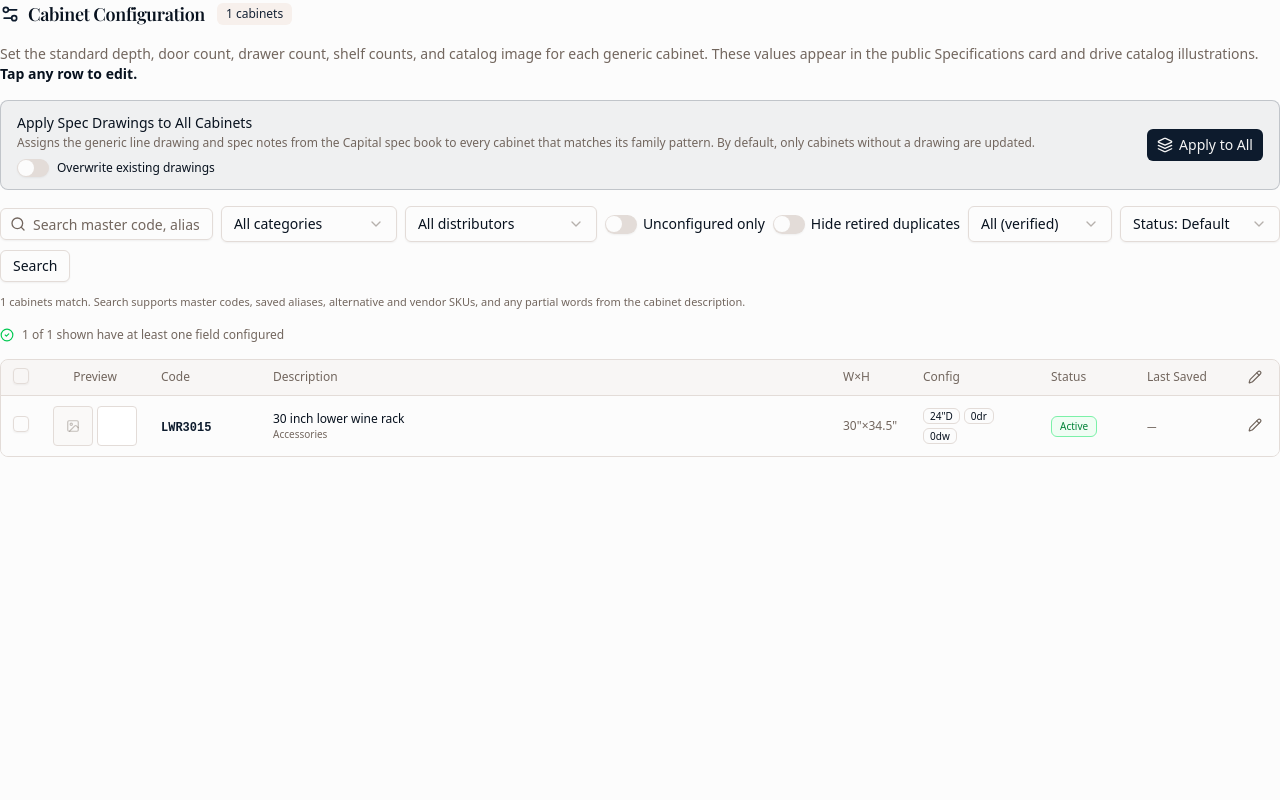
Cabinet Config edit flow › opens the editor when the row is clicked and ignores the checkbox
Click the checkbox next to "LWR3015". click: (21, 424)
box: [13,416,29,432]
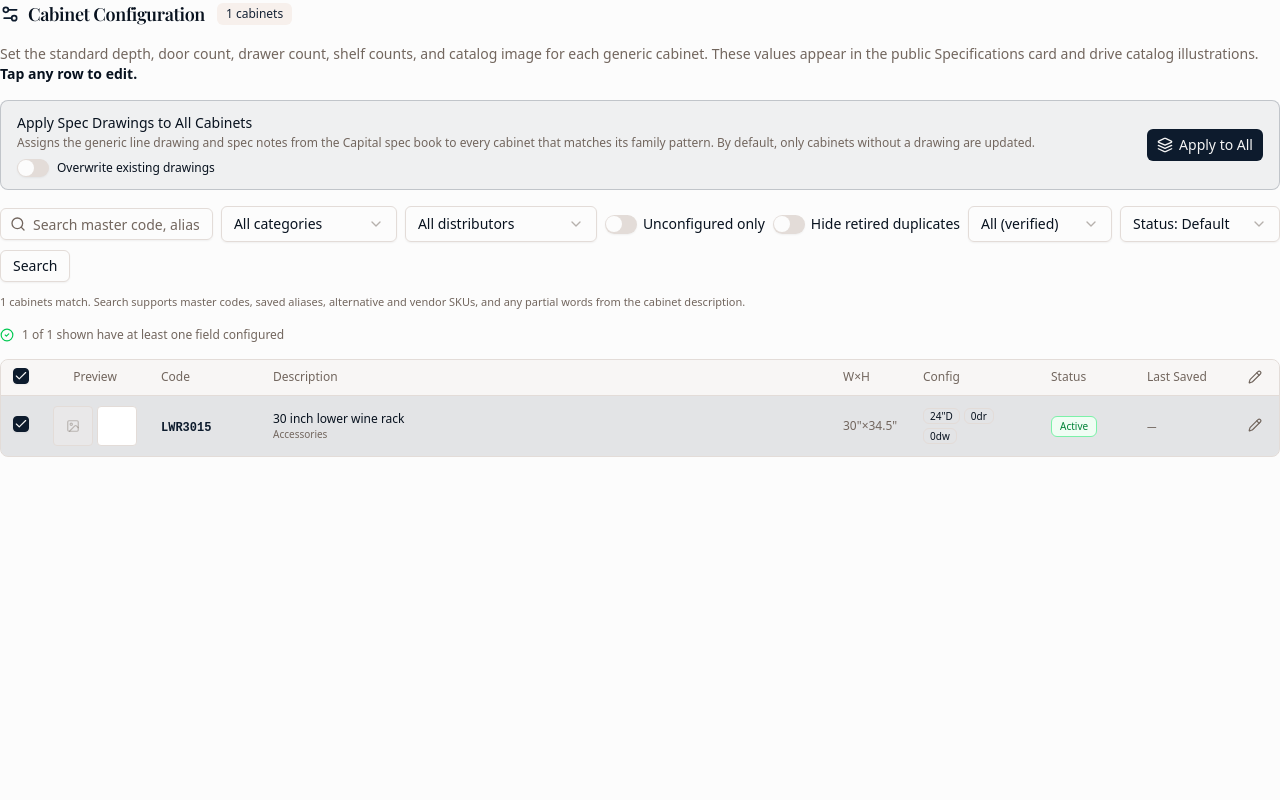
Click the text "30 inch lower wine rack". click: (339, 418)
box: [273,410,404,427]
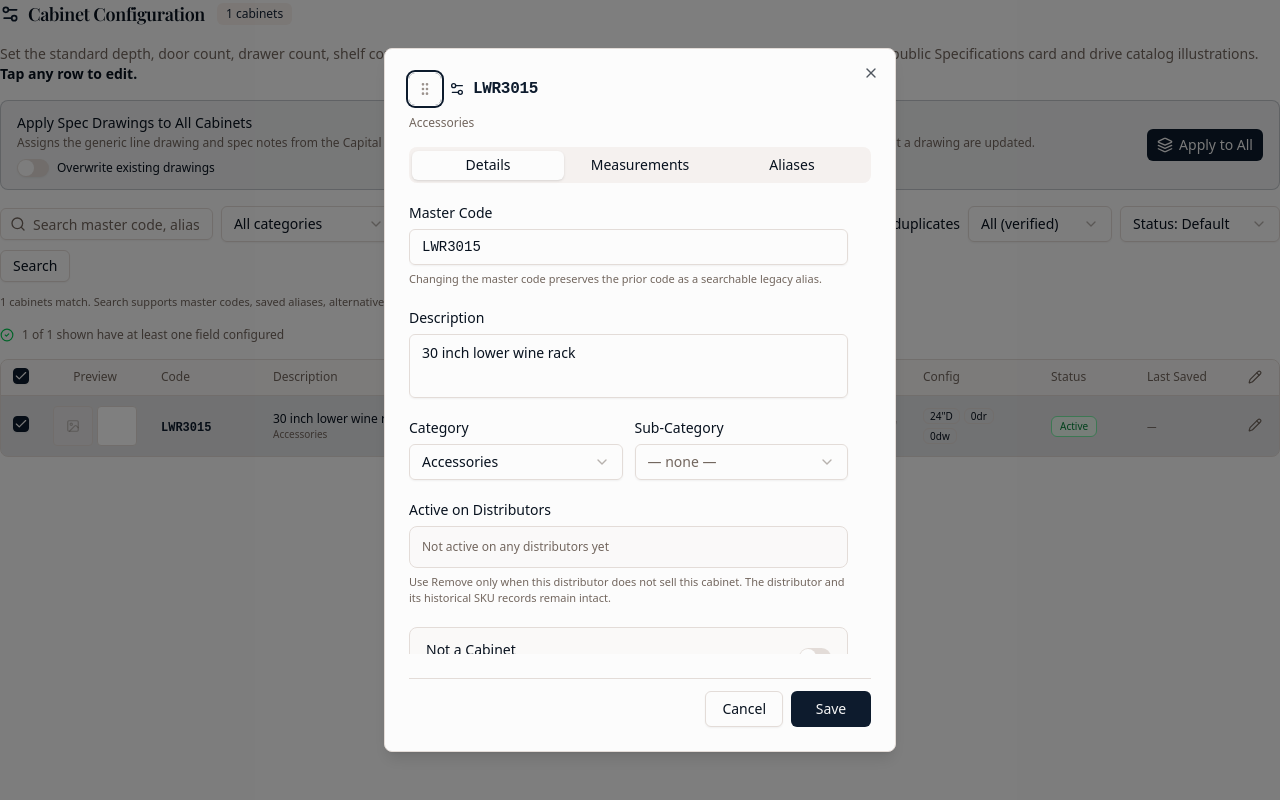
Expected: the dialog "LWR3015" is shown, [384,48,896,752]
